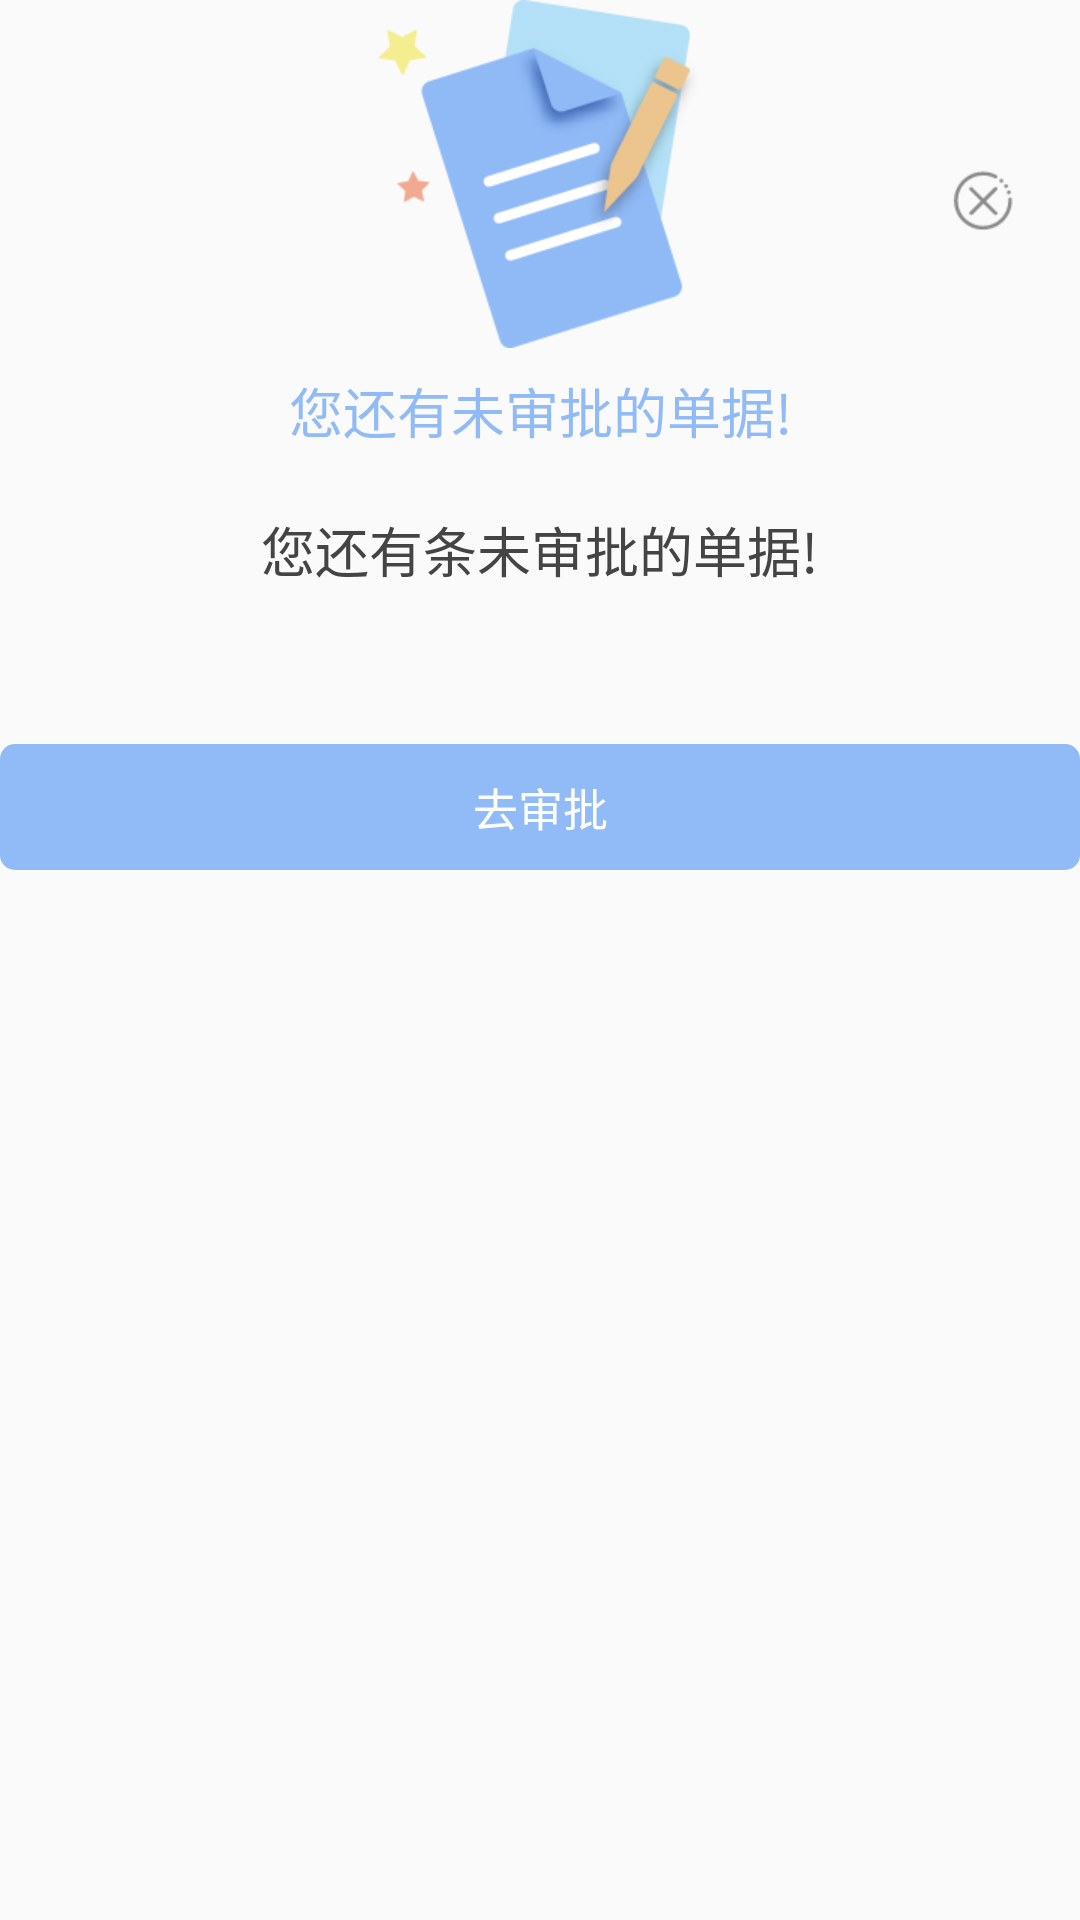

Named icons in this screenshot (1080*1920) and their centers, point (x, y):
shut: point (983, 200)
